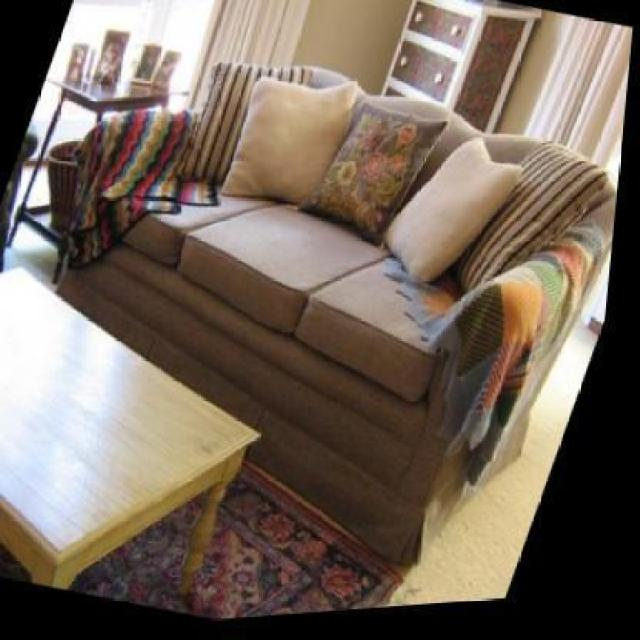tables: (0, 264, 260, 594)
